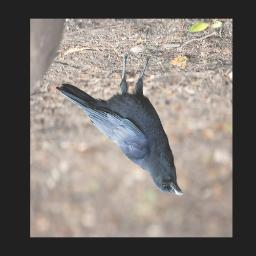Crow: (57, 49, 186, 196)
